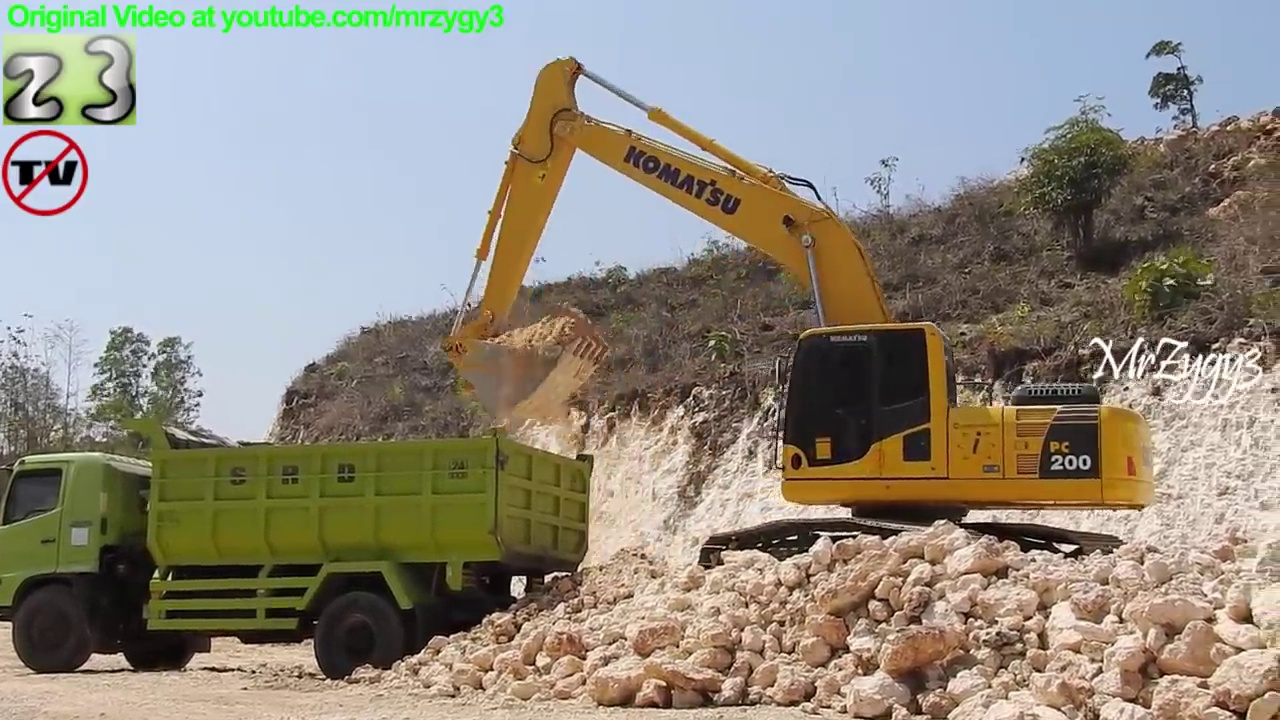excavator: (436, 51, 1167, 593)
truck: (1, 409, 603, 688)
